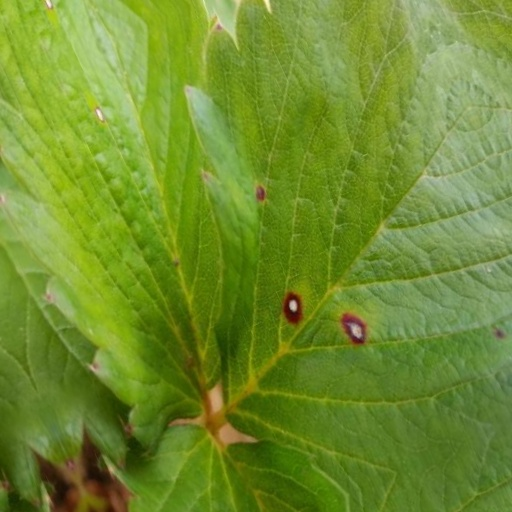Leaf Spot: (159, 0, 511, 511), (40, 0, 316, 398)
